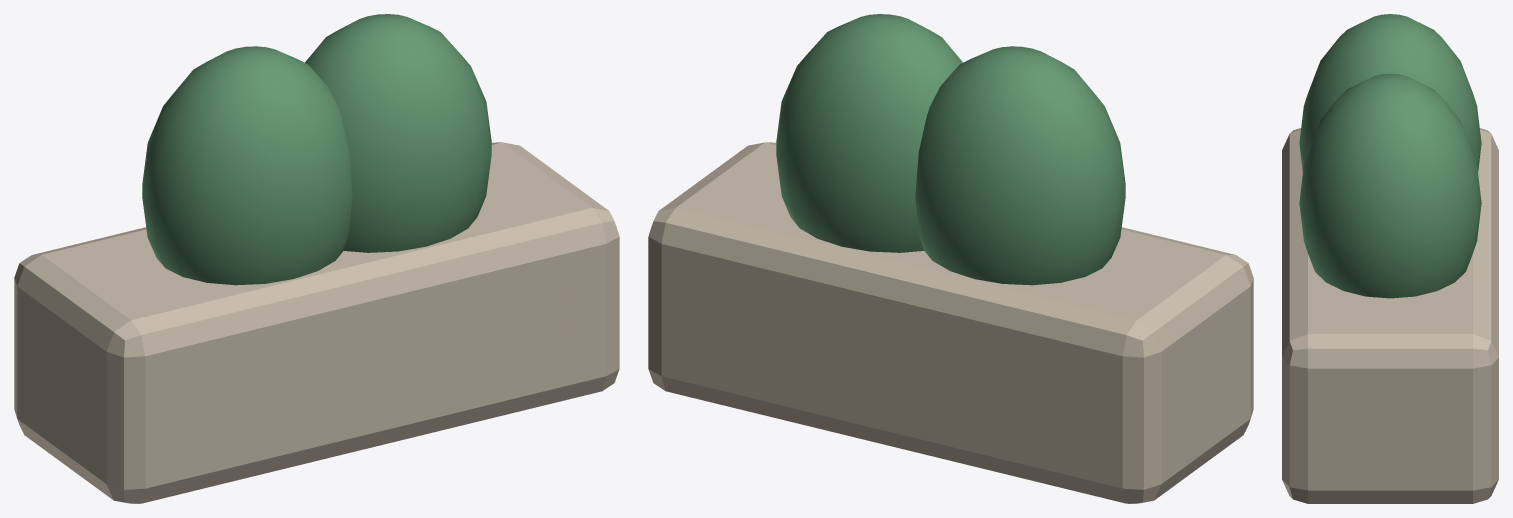
The model's file is planter_rect_lod1_v2.glb.
3 views of the same model, side by side, from view 1: azimuth 30°, elevation 25°; view 2: azimuth 150°, elevation 25°; view 3: azimuth 270°, elevation 25° (orthographic). The views are drawn at different scales.
Visible parts, largest first — view 1: LOD1_PLANTER_RECT_Pot, LOD1_PLANTER_RECT_Crown_01, LOD1_PLANTER_RECT_Crown_02; view 2: LOD1_PLANTER_RECT_Pot, LOD1_PLANTER_RECT_Crown_01, LOD1_PLANTER_RECT_Crown_02; view 3: LOD1_PLANTER_RECT_Pot, LOD1_PLANTER_RECT_Crown_02, LOD1_PLANTER_RECT_Crown_01.
Boxes of the visible parts, bbox=[...] form: LOD1_PLANTER_RECT_Pot: bbox=[14, 142, 619, 503]; LOD1_PLANTER_RECT_Crown_01: bbox=[142, 46, 352, 285]; LOD1_PLANTER_RECT_Crown_02: bbox=[305, 14, 491, 252]; LOD1_PLANTER_RECT_Pot: bbox=[648, 142, 1253, 503]; LOD1_PLANTER_RECT_Crown_01: bbox=[915, 46, 1125, 285]; LOD1_PLANTER_RECT_Crown_02: bbox=[776, 14, 962, 252]; LOD1_PLANTER_RECT_Pot: bbox=[1282, 128, 1498, 503]; LOD1_PLANTER_RECT_Crown_02: bbox=[1299, 73, 1481, 298]; LOD1_PLANTER_RECT_Crown_01: bbox=[1299, 14, 1481, 172].
Size of what is drawn, in the model's own units: 2.5 by 1.77 by 1.
